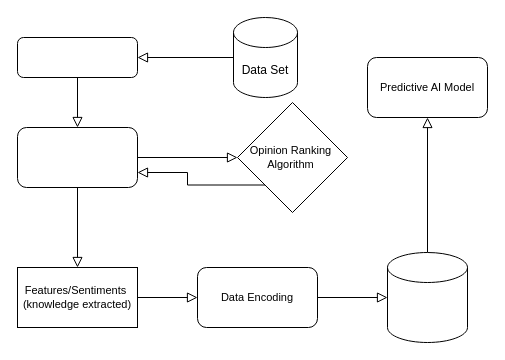
Image size: 505x360. Some labels were removed from this diagram. The shapes that lost their labels are listed below. From the top down, each one's centre as x and y in pixels, then its label:
At (x=77, y=57): "Data Preprocessing".
At (x=77, y=157): "Opinion Mining Engine".
At (x=427, y=297): "Vector DB".
